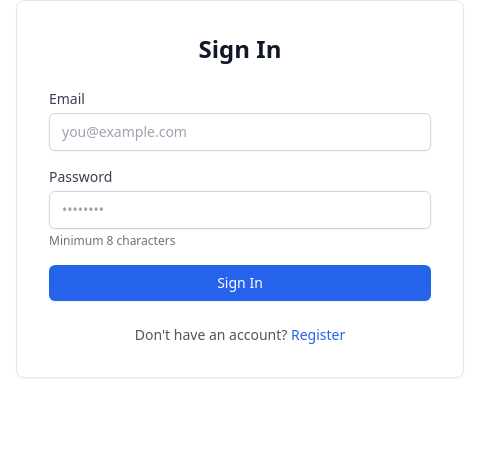
AuthForm › mode toggling › toggles from login to register and back
Expected: the heading "Sign In" is shown, [199,32,282,65]
Click the button with aria-label "switch to register form": (318, 335) [291,325,345,345]
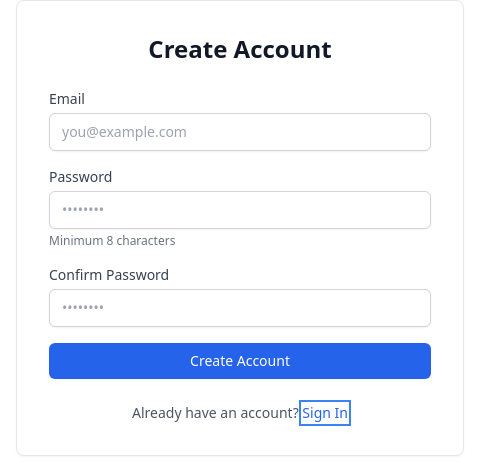
Expected: the heading "Create Account" is shown, [148,32,332,65]
Click the button with aria-label "switch to sign in form": (325, 413) [302,403,348,423]
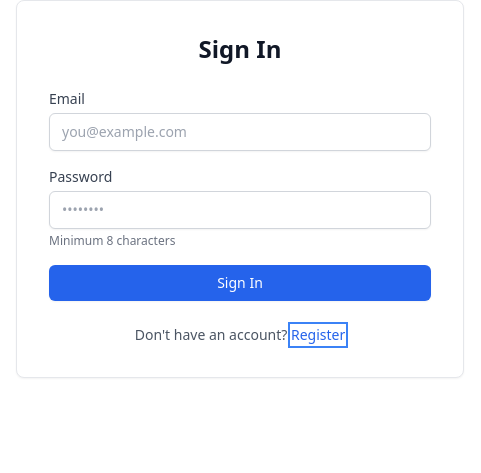
Expected: the heading "Sign In" is shown, [199,32,282,65]
